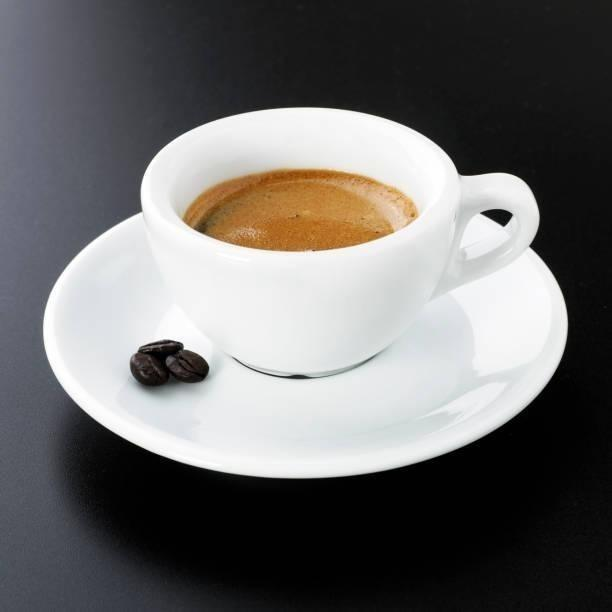cup-handle: (137, 105, 540, 379)
